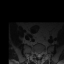CCS_normal: (38, 51, 40, 59)
LFS_normal: (41, 49, 43, 56)
LLS_normal: (40, 51, 42, 57)
RFS_normal: (35, 49, 36, 56)
RLS_normal: (36, 50, 38, 58)
